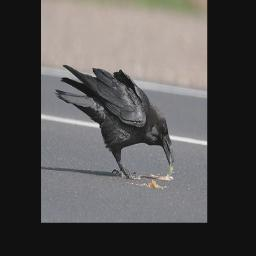Crow: (55, 64, 174, 179)
